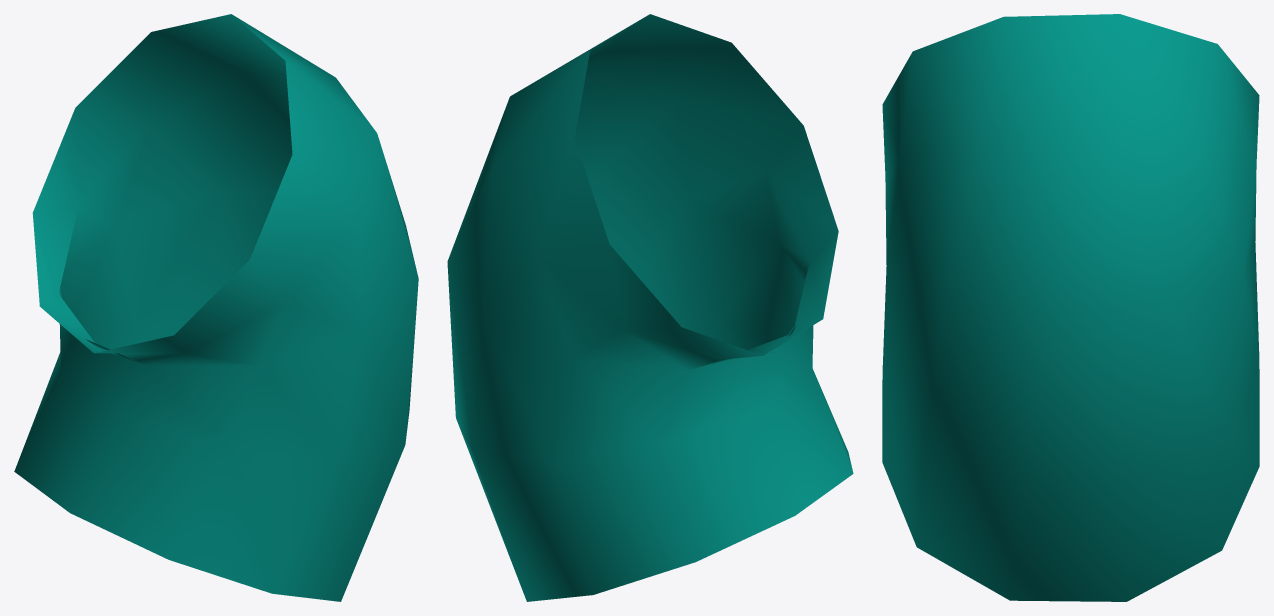
File: TestFBXExport.fbx
3 views of the same model, side by side, from view 1: azimuth 30°, elevation 25°; view 2: azimuth 150°, elevation 25°; view 3: azimuth 270°, elevation 25° (orthographic). The views are drawn at different scales.
Parts seen in each view (by area): view 1: TubeRenderer(Clone); view 2: TubeRenderer(Clone); view 3: TubeRenderer(Clone).
Boxes of the visible parts, box(x1,y1,x2,y2) form: TubeRenderer(Clone): box(14, 14, 418, 601); TubeRenderer(Clone): box(447, 14, 853, 601); TubeRenderer(Clone): box(882, 14, 1259, 601).
Bounding box in the file's own units: 0.1473 × 0.2165 × 0.1333.
